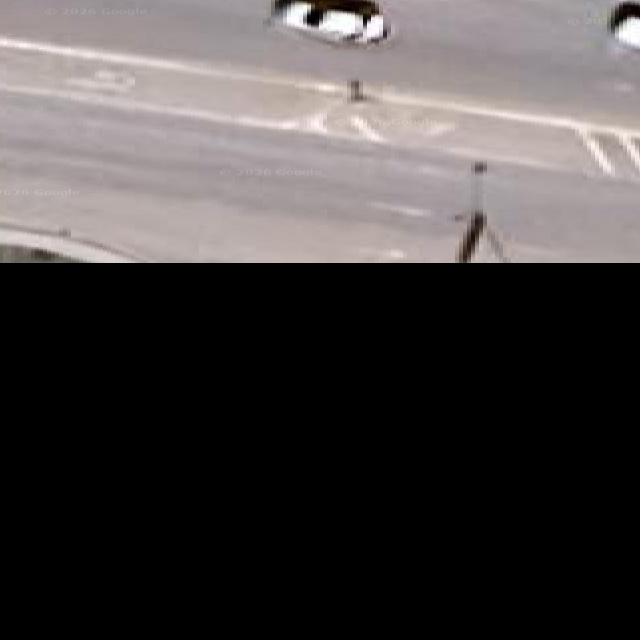car: (272, 0, 387, 43), (609, 2, 639, 48)
